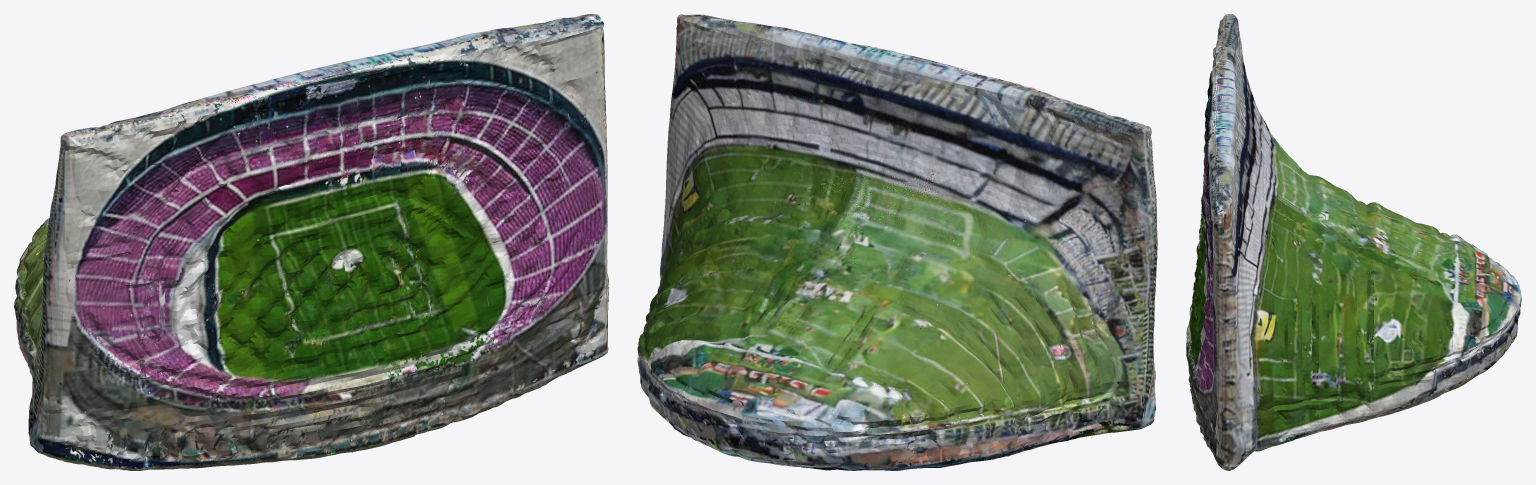
3 renders of one model, left to right at view 1: azimuth 30°, elevation 25°; view 2: azimuth 150°, elevation 25°; view 3: azimuth 270°, elevation 25°, orthographic. The views are drawn at different scales.
Parts seen in each view (by area): view 1: mesh; view 2: mesh; view 3: mesh.
Part boxes in pixels (x1,y1,x2,y2): mesh: (14,14,608,470); mesh: (637,14,1157,470); mesh: (1186,14,1521,470).
Size of the model in its own units: 0.8353 by 0.5323 by 0.5774.
Materials: 1 (1 with a texture image).
